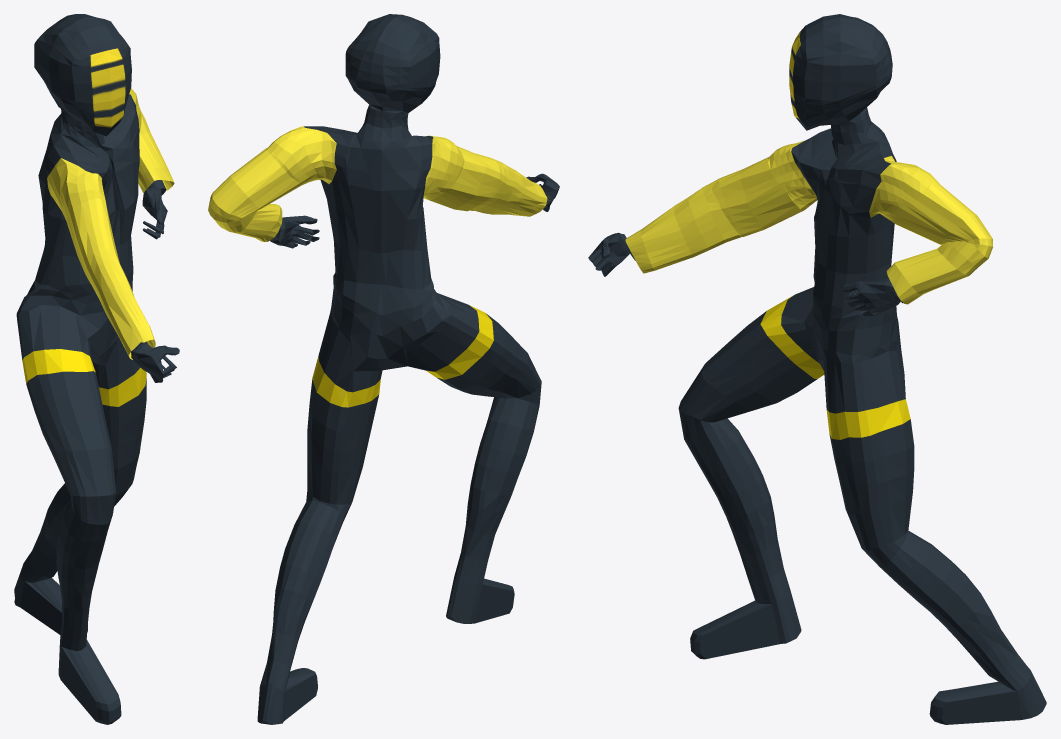
Rendered from Sentry_WF_000023.obj.
The picture shows the model from 3 angles, left to right: view 1: azimuth 30°, elevation 25°; view 2: azimuth 150°, elevation 25°; view 3: azimuth 270°, elevation 25°; orthographic projection. The views are drawn at different scales.
Visible parts, largest first — view 1: Cube; view 2: Cube; view 3: Cube.
Boxes of the visible parts, box(x1,y1,x2,y2) form: Cube: box(14, 14, 179, 724); Cube: box(208, 14, 559, 724); Cube: box(588, 14, 1046, 724).
Size of the model in its own units: 1.19 by 3.68 by 2.24.
